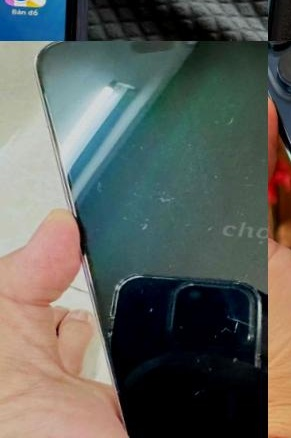scratch: (207, 306, 268, 357), (134, 183, 191, 224), (190, 99, 251, 132), (91, 160, 121, 199), (182, 384, 211, 409), (137, 304, 158, 327)
